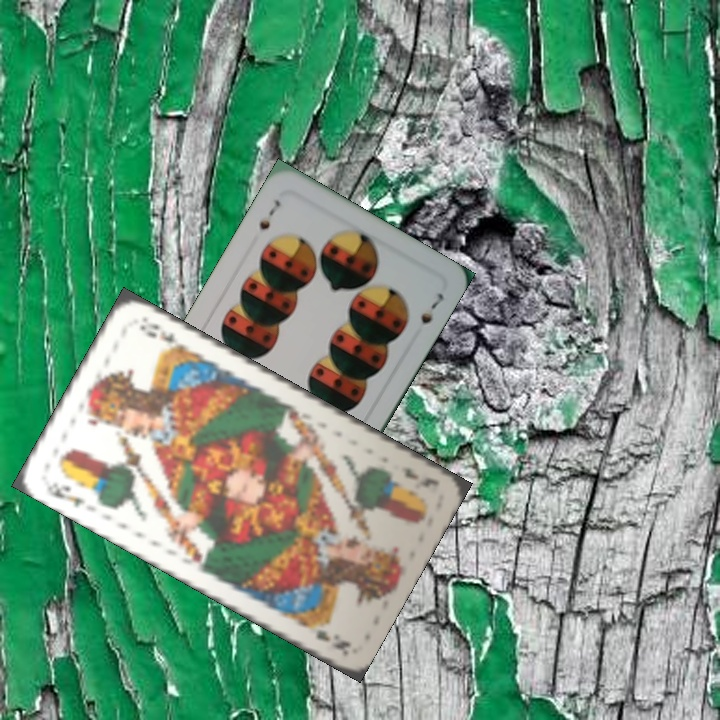EK: (42, 477, 88, 510), (398, 462, 442, 490)
S7: (255, 195, 283, 233)
